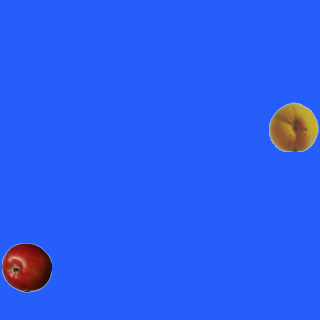Apple Braeburn: (1, 242, 51, 292)
Peach 2: (268, 101, 318, 151)
